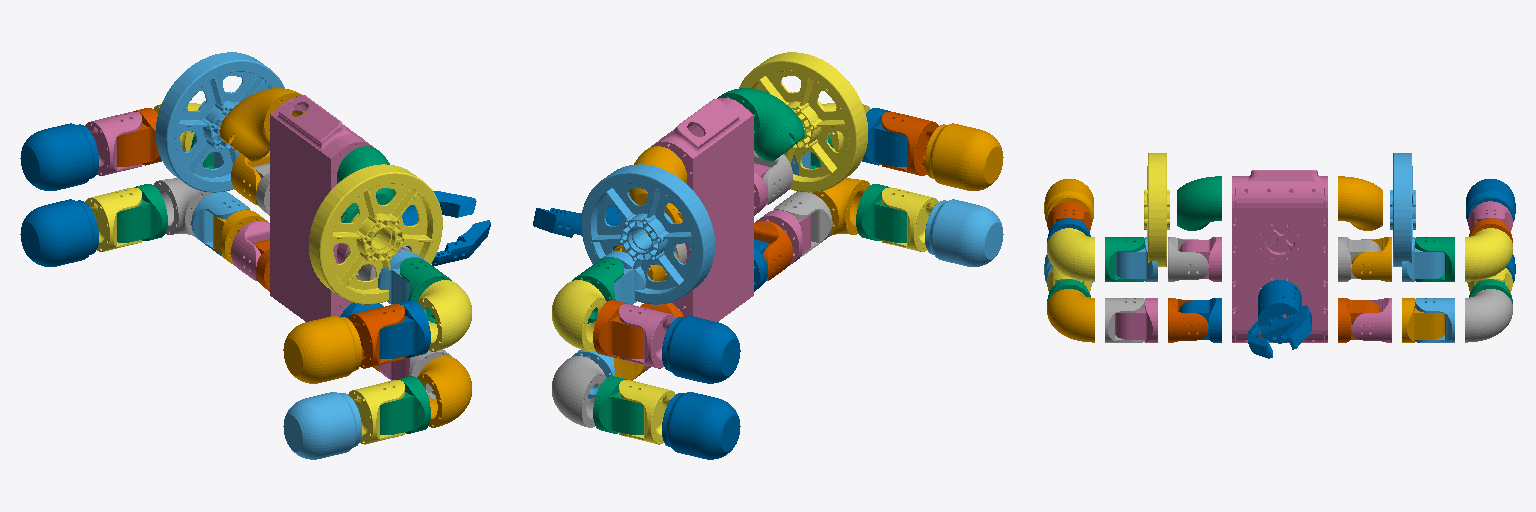
--- Render facts (derived) ---
Views: 3 orthographic renders of the robot side by side, from view 1: azimuth 30°, elevation 25°; view 2: azimuth 150°, elevation 25°; view 3: azimuth 270°, elevation 25°.
Model modular_robot_compiled with 39 links and 38 joints (13 revolute, 2 continuous, 23 fixed), rooted at eigenbody_M18_S00, posed all joints at 0.
Visible links, largest first — view 1: eigenbody_M18_S00, wheel_output_M1_SF3, wheel_output_M0_SF1, foot_input_M14_SC5, foot_input_M10_S29, foot_input_M2_S47, foot_input_M22_SB6, wheel_input_M0_SF1, static_elbow_M9_SBB, static_elbow_M16_SB4, gripper_M12_S14, bendy_input_M6_S53 (+18 smaller); view 2: eigenbody_M18_S00, wheel_output_M0_SF1, wheel_output_M1_SF3, foot_input_M22_SB6, foot_input_M2_S47, foot_input_M10_S29, foot_input_M14_SC5, wheel_input_M1_SF3, static_elbow_M4_S42, static_elbow_M21_SC7, bendy_input_M11_S36, bendy_input_M23_S01 (+18 smaller); view 3: eigenbody_M18_S00, gripper_M12_S14, wheel_output_M0_SF1, wheel_output_M1_SF3, wheel_input_M0_SF1, wheel_input_M1_SF3, static_elbow_M16_SB4, static_elbow_M21_SC7, static_elbow_M4_S42, static_elbow_M9_SBB, bendy_input_M5_S1D, bendy_input_M8_S0C (+18 smaller).
Boxes of the visible links, x1,y1,x2,y2 form: eigenbody_M18_S00: (270, 95, 372, 321); wheel_output_M1_SF3: (309, 164, 442, 304); wheel_output_M0_SF1: (156, 52, 284, 192); foot_input_M14_SC5: (283, 316, 361, 383); foot_input_M10_S29: (283, 392, 361, 459); foot_input_M2_S47: (20, 199, 98, 266); foot_input_M22_SB6: (20, 123, 98, 190); wheel_input_M0_SF1: (219, 88, 305, 161); static_elbow_M9_SBB: (417, 356, 471, 427); static_elbow_M16_SB4: (417, 280, 471, 351); gripper_M12_S14: (402, 191, 490, 266); bendy_input_M6_S53: (117, 184, 167, 242); eigenbody_M18_S00: (651, 98, 753, 321); wheel_output_M0_SF1: (581, 164, 714, 304); wheel_output_M1_SF3: (739, 52, 867, 192); foot_input_M22_SB6: (662, 316, 740, 383); foot_input_M2_S47: (662, 392, 740, 459); foot_input_M10_S29: (925, 199, 1003, 266); foot_input_M14_SC5: (925, 123, 1003, 190); wheel_input_M1_SF3: (717, 88, 804, 161); static_elbow_M4_S42: (552, 356, 606, 427); static_elbow_M21_SC7: (552, 280, 606, 351); bendy_input_M11_S36: (856, 184, 906, 242); bendy_input_M23_S01: (593, 300, 643, 358); eigenbody_M18_S00: (1232, 170, 1327, 342); gripper_M12_S14: (1248, 280, 1311, 358); wheel_output_M0_SF1: (1390, 153, 1415, 266); wheel_output_M1_SF3: (1144, 153, 1169, 266); wheel_input_M0_SF1: (1338, 176, 1382, 230); wheel_input_M1_SF3: (1177, 176, 1221, 230); static_elbow_M16_SB4: (1047, 228, 1094, 281); static_elbow_M21_SC7: (1465, 228, 1512, 281); static_elbow_M4_S42: (1465, 289, 1512, 342); static_elbow_M9_SBB: (1047, 289, 1094, 342); bendy_input_M5_S1D: (1402, 298, 1444, 342); bendy_input_M8_S0C: (1115, 298, 1157, 342).
Bounding box of the posed robot: 0.3967 × 0.632 × 0.2584 m (x, y, z).
Meshes: 8 distinct files referenced, 38 mesh visuals loaded (8 binary STL).

robot.urdf — modular_robot_compiled:
<?xml version="1.0" ?>
<!-- =================================================================================== -->
<!-- |    This document was autogenerated by xacro from [local-path]/catkin_ws/src/eigenbot/urdf/autoXACRO.xacro | -->
<!-- |    EDITING THIS FILE BY HAND IS NOT RECOMMENDED                                 | -->
<!-- =================================================================================== -->
<robot name="modular_robot_compiled" xmlns:xacro="http://www.ros.org/wiki/xacro">
  <link name="wheel_input_M0_SF1">
    <inertial>
      <origin rpy="0 0 0" xyz="-0.03217 -0.01684  0.00008"/>
      <mass value="0.16899"/>
      <inertia ixx="0.00011469" ixy="0.00005233" ixz="0.0000004" iyy="0.00011843" iyz="0.00000024" izz="0.00017019"/>
    </inertial>
    <visual>
      <geometry>
        <mesh filename="package://eigenbot/meshes/Wheel In.STL" scale=" 1 1 1 "/>
      </geometry>
    </visual>
    <collision>
      <geometry>
        <mesh filename="package://eigenbot/meshes/Wheel In.STL" scale=" 1 1 1 "/>
      </geometry>
    </collision>
    <material name="black">
      <color rgba="0.1 0.1 0.1 1"/>
    </material>
  </link>
  <link name="wheel_output_M0_SF1">
    <inertial>
      <origin rpy="0 0 0" xyz="-0.03 0 0"/>
      <mass value="0.30808"/>
      <inertia ixx=".00103" ixy="0" ixz="0" iyy="0.00054" iyz="0" izz="0.00054"/>
    </inertial>
    <visual>
      <geometry>
        <mesh filename="package://eigenbot/meshes/Wheel Out.STL" scale=" 1 1 1 "/>
      </geometry>
      <origin rpy="0 0 0" xyz="0 0 0"/>
    </visual>
    <collision>
      <geometry>
        <mesh filename="package://eigenbot/meshes/Wheel Out.STL" scale=" 1 1 1 "/>
      </geometry>
    </collision>
    <material name="black">
      <color rgba="0.1 0.1 0.1 1"/>
    </material>
  </link>
  <joint name="wheel_joint_M0_SF1" type="continuous">
    <parent link="wheel_input_M0_SF1"/>
    <child link="wheel_output_M0_SF1"/>
    <origin rpy="0 0 0" xyz="-0.06858 -0.044775 0"/>
    <axis xyz="1 0 0"/>
    <limit effort="100.0" velocity="3.2"/>
  </joint>
  <link name="wheel_input_M1_SF3">
    <inertial>
      <origin rpy="0 0 0" xyz="-0.03217 -0.01684  0.00008"/>
      <mass value="0.16899"/>
      <inertia ixx="0.00011469" ixy="0.00005233" ixz="0.0000004" iyy="0.00011843" iyz="0.00000024" izz="0.00017019"/>
    </inertial>
    <visual>
      <geometry>
        <mesh filename="package://eigenbot/meshes/Wheel In.STL" scale=" 1 1 1 "/>
      </geometry>
    </visual>
    <collision>
      <geometry>
        <mesh filename="package://eigenbot/meshes/Wheel In.STL" scale=" 1 1 1 "/>
      </geometry>
    </collision>
    <material name="black">
      <color rgba="0.1 0.1 0.1 1"/>
    </material>
  </link>
  <link name="wheel_output_M1_SF3">
    <inertial>
      <origin rpy="0 0 0" xyz="-0.03 0 0"/>
      <mass value="0.30808"/>
      <inertia ixx=".00103" ixy="0" ixz="0" iyy="0.00054" iyz="0" izz="0.00054"/>
    </inertial>
    <visual>
      <geometry>
        <mesh filename="package://eigenbot/meshes/Wheel Out.STL" scale=" 1 1 1 "/>
      </geometry>
      <origin rpy="0 0 0" xyz="0 0 0"/>
    </visual>
    <collision>
      <geometry>
        <mesh filename="package://eigenbot/meshes/Wheel Out.STL" scale=" 1 1 1 "/>
      </geometry>
    </collision>
    <material name="black">
      <color rgba="0.1 0.1 0.1 1"/>
    </material>
  </link>
  <joint name="wheel_joint_M1_SF3" type="continuous">
    <parent link="wheel_input_M1_SF3"/>
    <child link="wheel_output_M1_SF3"/>
    <origin rpy="0 0 0" xyz="-0.06858 -0.044775 0"/>
    <axis xyz="1 0 0"/>
    <limit effort="100.0" velocity="3.2"/>
  </joint>
  <link name="foot_input_M2_S47">
    <inertial>
      <origin rpy="0 0 0" xyz="-0.03918 0 0"/>
      <mass value="0.04967"/>
      <inertia ixx="0.0000361" ixy="0" ixz="0" iyy="0.0000434" iyz="0" izz="0.0000434"/>
    </inertial>
    <visual>
      <geometry>
        <mesh filename="package://eigenbot/meshes/Foot.STL" scale=" 1 1 1 "/>
      </geometry>
    </visual>
    <collision>
      <geometry>
        <mesh filename="package://eigenbot/meshes/Foot.STL" scale=" 1 1 1 "/>
      </geometry>
    </collision>
    <material name="black">
      <color rgba="0.1 0.1 0.1 1"/>
    </material>
  </link>
  <link name="bendy_input_M3_S02">
    <inertial>
      <origin rpy="0 0 0" xyz="-0.023 0 0"/>
      <mass value="0.13536"/>
      <inertia ixx="0.000047004" ixy="-0.000000049" ixz="0.000000017" iyy="0.000068413" iyz="0.000000009" izz="0.000070686"/>
    </inertial>
    <visual>
      <geometry>
        <mesh filename="package://eigenbot/meshes/Bendy In.STL" scale="1 1 1"/>
      </geometry>
    </visual>
    <collision>
      <geometry>
        <mesh filename="package://eigenbot/meshes/Bendy In.STL" scale="1 1 1"/>
      </geometry>
    </collision>
    <material name="black">
      <color rgba="0.1 0.1 0.1 1"/>
    </material>
  </link>
  <link name="bendy_output_M3_S02">
    <inertial>
      <origin rpy="0 0 0" xyz="-0.029 0 0"/>
      <mass value=".03522"/>
      <inertia ixx="0.000021977" ixy="0.000000082" ixz="-0.000000063" iyy="0.000017473" iyz="0.000000067" izz="0.000021078"/>
    </inertial>
    <visual>
      <geometry>
        <mesh filename="package://eigenbot/meshes/Bendy Out.STL" scale="1 1 1"/>
      </geometry>
      <origin rpy="0 0 0" xyz="0 0 0 "/>
    </visual>
    <collision>
      <geometry>
        <mesh filename="package://eigenbot/meshes/Bendy Out.STL" scale="1 1 1"/>
      </geometry>
      <origin rpy="0 0 0" xyz="0 0 0"/>
    </collision>
    <material name="black">
      <color rgba="0.1 0.1 0.1 1"/>
    </material>
  </link>
  <joint name="bendy_joint_M3_S02" type="revolute">
    <parent link="bendy_input_M3_S02"/>
    <child link="bendy_output_M3_S02"/>
    <origin rpy="0 0 0" xyz="-0.049 0 0"/>
    <axis xyz="0 1 0"/>
    <limit effort="100.0" lower="-1.57079632679" upper="1.57079632679" velocity="5"/>
  </joint>
  <link name="static_elbow_M4_S42">
    <inertial>
      <origin rpy="0 0 0" xyz="-0.03148 0.00004 -0.01437"/>
      <mass value="0.06766"/>
      <inertia ixx="0.000052397" ixy="-0.0000001126" ixz="0.000015681" iyy="0.000065586" iyz="-0.000000082" izz="0.000053626"/>
    </inertial>
    <visual>
      <geometry>
        <mesh filename="package://eigenbot/meshes/Elbow.STL" scale="1 1 1"/>
      </geometry>
      <origin rpy="-1.57079632679 0 0" xyz="0 0 0"/>
    </visual>
    <collision>
      <geometry>
        <mesh filename="package://eigenbot/meshes/Elbow.STL" scale="1 1 1"/>
      </geometry>
      <origin rpy="-1.57079632679 0 0" xyz="0 0 0"/>
    </collision>
    <material name="black">
      <color rgba="0.1 0.1 0.1 1"/>
    </material>
  </link>
  <link name="bendy_input_M5_S1D">
    <inertial>
      <origin rpy="0 0 0" xyz="-0.023 0 0"/>
      <mass value="0.13536"/>
      <inertia ixx="0.000047004" ixy="-0.000000049" ixz="0.000000017" iyy="0.000068413" iyz="0.000000009" izz="0.000070686"/>
    </inertial>
    <visual>
      <geometry>
        <mesh filename="package://eigenbot/meshes/Bendy In.STL" scale="1 1 1"/>
      </geometry>
    </visual>
    <collision>
      <geometry>
        <mesh filename="package://eigenbot/meshes/Bendy In.STL" scale="1 1 1"/>
      </geometry>
    </collision>
    <material name="black">
      <color rgba="0.1 0.1 0.1 1"/>
    </material>
  </link>
  <link name="bendy_output_M5_S1D">
    <inertial>
      <origin rpy="0 0 0" xyz="-0.029 0 0"/>
      <mass value=".03522"/>
      <inertia ixx="0.000021977" ixy="0.000000082" ixz="-0.000000063" iyy="0.000017473" iyz="0.000000067" izz="0.000021078"/>
    </inertial>
    <visual>
      <geometry>
        <mesh filename="package://eigenbot/meshes/Bendy Out.STL" scale="1 1 1"/>
      </geometry>
      <origin rpy="0 0 0" xyz="0 0 0 "/>
    </visual>
    <collision>
      <geometry>
        <mesh filename="package://eigenbot/meshes/Bendy Out.STL" scale="1 1 1"/>
      </geometry>
      <origin rpy="0 0 0" xyz="0 0 0"/>
    </collision>
    <material name="black">
      <color rgba="0.1 0.1 0.1 1"/>
    </material>
  </link>
  <joint name="bendy_joint_M5_S1D" type="revolute">
    <parent link="bendy_input_M5_S1D"/>
    <child link="bendy_output_M5_S1D"/>
    <origin rpy="0 0 0" xyz="-0.049 0 0"/>
    <axis xyz="0 1 0"/>
    <limit effort="100.0" lower="-1.57079632679" upper="1.57079632679" velocity="5"/>
  </joint>
  <link name="bendy_input_M6_S53">
    <inertial>
      <origin rpy="0 0 0" xyz="-0.023 0 0"/>
      <mass value="0.13536"/>
      <inertia ixx="0.000047004" ixy="-0.000000049" ixz="0.000000017" iyy="0.000068413" iyz="0.000000009" izz="0.000070686"/>
    </inertial>
    <visual>
      <geometry>
        <mesh filename="package://eigenbot/meshes/Bendy In.STL" scale="1 1 1"/>
      </geometry>
    </visual>
    <collision>
      <geometry>
        <mesh filename="package://eigenbot/meshes/Bendy In.STL" scale="1 1 1"/>
      </geometry>
    </collision>
    <material name="black">
      <color rgba="0.1 0.1 0.1 1"/>
    </material>
  </link>
  <link name="bendy_output_M6_S53">
    <inertial>
      <origin rpy="0 0 0" xyz="-0.029 0 0"/>
      <mass value=".03522"/>
      <inertia ixx="0.000021977" ixy="0.000000082" ixz="-0.000000063" iyy="0.000017473" iyz="0.000000067" izz="0.000021078"/>
    </inertial>
    <visual>
      <geometry>
        <mesh filename="package://eigenbot/meshes/Bendy Out.STL" scale="1 1 1"/>
      </geometry>
      <origin rpy="0 0 0" xyz="0 0 0 "/>
    </visual>
    <collision>
      <geometry>
        <mesh filename="package://eigenbot/meshes/Bendy Out.STL" scale="1 1 1"/>
      </geometry>
      <origin rpy="0 0 0" xyz="0 0 0"/>
    </collision>
    <material name="black">
      <color rgba="0.1 0.1 0.1 1"/>
    </material>
  </link>
  <joint name="bendy_joint_M6_S53" type="revolute">
    <parent link="bendy_input_M6_S53"/>
    <child link="bendy_output_M6_S53"/>
    <origin rpy="0 0 0" xyz="-0.049 0 0"/>
    <axis xyz="0 1 0"/>
    <limit effort="100.0" lower="-1.57079632679" upper="1.57079632679" velocity="5"/>
  </joint>
  <link name="bendy_input_M7_SC0">
    <inertial>
      <origin rpy="0 0 0" xyz="-0.023 0 0"/>
      <mass value="0.13536"/>
      <inertia ixx="0.000047004" ixy="-0.000000049" ixz="0.000000017" iyy="0.000068413" iyz="0.000000009" izz="0.000070686"/>
    </inertial>
    <visual>
      <geometry>
        <mesh filename="package://eigenbot/meshes/Bendy In.STL" scale="1 1 1"/>
      </geometry>
    </visual>
    <collision>
      <geometry>
        <mesh filename="package://eigenbot/meshes/Bendy In.STL" scale="1 1 1"/>
      </geometry>
    </collision>
    <material name="black">
      <color rgba="0.1 0.1 0.1 1"/>
    </material>
  </link>
  <link name="bendy_output_M7_SC0">
    <inertial>
      <origin rpy="0 0 0" xyz="-0.029 0 0"/>
      <mass value=".03522"/>
      <inertia ixx="0.000021977" ixy="0.000000082" ixz="-0.000000063" iyy="0.000017473" iyz="0.000000067" izz="0.000021078"/>
    </inertial>
    <visual>
      <geometry>
        <mesh filename="package://eigenbot/meshes/Bendy Out.STL" scale="1 1 1"/>
      </geometry>
      <origin rpy="0 0 0" xyz="0 0 0 "/>
    </visual>
    <collision>
      <geometry>
        <mesh filename="package://eigenbot/meshes/Bendy Out.STL" scale="1 1 1"/>
      </geometry>
      <origin rpy="0 0 0" xyz="0 0 0"/>
    </collision>
    <material name="black">
      <color rgba="0.1 0.1 0.1 1"/>
    </material>
  </link>
  <joint name="bendy_joint_M7_SC0" type="revolute">
    <parent link="bendy_input_M7_SC0"/>
    <child link="bendy_output_M7_SC0"/>
    <origin rpy="0 0 0" xyz="-0.049 0 0"/>
    <axis xyz="0 1 0"/>
    <limit effort="100.0" lower="-1.57079632679" upper="1.57079632679" velocity="5"/>
  </joint>
  <link name="bendy_input_M8_S0C">
    <inertial>
      <origin rpy="0 0 0" xyz="-0.023 0 0"/>
      <mass value="0.13536"/>
      <inertia ixx="0.000047004" ixy="-0.000000049" ixz="0.000000017" iyy="0.000068413" iyz="0.000000009" izz="0.000070686"/>
    </inertial>
    <visual>
      <geometry>
        <mesh filename="package://eigenbot/meshes/Bendy In.STL" scale="1 1 1"/>
      </geometry>
    </visual>
    <collision>
      <geometry>
        <mesh filename="package://eigenbot/meshes/Bendy In.STL" scale="1 1 1"/>
      </geometry>
    </collision>
    <material name="black">
      <color rgba="0.1 0.1 0.1 1"/>
    </material>
  </link>
  <link name="bendy_output_M8_S0C">
    <inertial>
      <origin rpy="0 0 0" xyz="-0.029 0 0"/>
      <mass value=".03522"/>
      <inertia ixx="0.000021977" ixy="0.000000082" ixz="-0.000000063" iyy="0.000017473" iyz="0.000000067" izz="0.000021078"/>
    </inertial>
    <visual>
      <geometry>
        <mesh filename="package://eigenbot/meshes/Bendy Out.STL" scale="1 1 1"/>
      </geometry>
      <origin rpy="0 0 0" xyz="0 0 0 "/>
    </visual>
    <collision>
      <geometry>
        <mesh filename="package://eigenbot/meshes/Bendy Out.STL" scale="1 1 1"/>
      </geometry>
      <origin rpy="0 0 0" xyz="0 0 0"/>
    </collision>
    <material name="black">
      <color rgba="0.1 0.1 0.1 1"/>
    </material>
  </link>
  <joint name="bendy_joint_M8_S0C" type="revolute">
    <parent link="bendy_input_M8_S0C"/>
    <child link="bendy_output_M8_S0C"/>
    <origin rpy="0 0 0" xyz="-0.049 0 0"/>
    <axis xyz="0 1 0"/>
    <limit effort="100.0" lower="-1.57079632679" upper="1.57079632679" velocity="5"/>
  </joint>
  <link name="static_elbow_M9_SBB">
    <inertial>
      <origin rpy="0 0 0" xyz="-0.03148 0.00004 -0.01437"/>
      <mass value="0.06766"/>
      <inertia ixx="0.000052397" ixy="-0.0000001126" ixz="0.000015681" iyy="0.000065586" iyz="-0.000000082" izz="0.000053626"/>
    </inertial>
    <visual>
      <geometry>
        <mesh filename="package://eigenbot/meshes/Elbow.STL" scale="1 1 1"/>
      </geometry>
      <origin rpy="-1.57079632679 0 0" xyz="0 0 0"/>
    </visual>
    <collision>
      <geometry>
        <mesh filename="package://eigenbot/meshes/Elbow.STL" scale="1 1 1"/>
      </geometry>
      <origin rpy="-1.57079632679 0 0" xyz="0 0 0"/>
    </collision>
    <material name="black">
      <color rgba="0.1 0.1 0.1 1"/>
    </material>
  </link>
  <link name="foot_input_M10_S29">
    <inertial>
      <origin rpy="0 0 0" xyz="-0.03918 0 0"/>
      <mass value="0.04967"/>
      <inertia ixx="0.0000361" ixy="0" ixz="0" iyy="0.0000434" iyz="0" izz="0.0000434"/>
    </inertial>
    <visual>
      <geometry>
        <mesh filename="package://eigenbot/meshes/Foot.STL" scale=" 1 1 1 "/>
      </geometry>
    </visual>
    <collision>
      <geometry>
        <mesh filename="package://eigenbot/meshes/Foot.STL" scale=" 1 1 1 "/>
      </geometry>
    </collision>
    <material name="black">
      <color rgba="0.1 0.1 0.1 1"/>
    </material>
  </link>
  <link name="bendy_input_M11_S36">
    <inertial>
      <origin rpy="0 0 0" xyz="-0.023 0 0"/>
      <mass value="0.13536"/>
      <inertia ixx="0.000047004" ixy="-0.000000049" ixz="0.000000017" iyy="0.000068413" iyz="0.000000009" izz="0.000070686"/>
    </inertial>
    <visual>
      <geometry>
        <mesh filename="package://eigenbot/meshes/Bendy In.STL" scale="1 1 1"/>
      </geometry>
    </visual>
    <collision>
      <geometry>
        <mesh filename="package://eigenbot/meshes/Bendy In.STL" scale="1 1 1"/>
      </geometry>
    </collision>
    <material name="black">
      <color rgba="0.1 0.1 0.1 1"/>
    </material>
  </link>
  <link name="bendy_output_M11_S36">
    <inertial>
      <origin rpy="0 0 0" xyz="-0.029 0 0"/>
      <mass value=".03522"/>
      <inertia ixx="0.000021977" ixy="0.000000082" ixz="-0.000000063" iyy="0.000017473" iyz="0.000000067" izz="0.000021078"/>
    </inertial>
    <visual>
      <geometry>
        <mesh filename="package://eigenbot/meshes/Bendy Out.STL" scale="1 1 1"/>
      </geometry>
      <origin rpy="0 0 0" xyz="0 0 0 "/>
    </visual>
    <collision>
      <geometry>
        <mesh filename="package://eigenbot/meshes/Bendy Out.STL" scale="1 1 1"/>
      </geometry>
      <origin rpy="0 0 0" xyz="0 0 0"/>
    </collision>
    <material name="black">
      <color rgba="0.1 0.1 0.1 1"/>
    </material>
  </link>
  <joint name="bendy_joint_M11_S36" type="revolute">
    <parent link="bendy_input_M11_S36"/>
    <child link="bendy_output_M11_S36"/>
    <origin rpy="0 0 0" xyz="-0.049 0 0"/>
    <axis xyz="0 1 0"/>
    <limit effort="100.0" lower="-1.57079632679" upper="1.57079632679" velocity="5"/>
  </joint>
  <link name="gripper_M12_S14">
    <inertial>
      <!-- TODO: check this is the right offset from CAD -->
      <origin rpy="0 0 0" xyz="-0.0381  -0.0015  -0.0037"/>
      <mass value=".388326"/>
      <inertia ixx="0.0001432" ixy="-0.0000013" ixz="-0.000003" iyy="0.0003879" iyz="-0.0000059" izz="0.0004005"/>
    </inertial>
    <visual>
      <origin rpy="0 0 0" xyz="0 0 0"/>
      <geometry>
        <mesh filename="package://eigenbot/meshes/Gripper.STL" scale="1 1 1"/>
      </geometry>
    </visual>
    <collision>
      <origin rpy="0 0 0" xyz="0 0 0"/>
      <geometry>
        <mesh filename="package://eigenbot/meshes/Gripper.STL" scale="1 1 1"/>
      </geometry>
    </collision>
    <material name="black">
      <color rgba="0.1 0.1 0.1 1"/>
    </material>
  </link>
  <link name="gripper_virtual_M12_S14">
    <inertial>
      <origin rpy="0 0 0" xyz="0 0 0"/>
      <mass value=".01"/>
      <inertia ixx=".000001" ixy="0" ixz="0" iyy=".000001" iyz="0" izz=".000001"/>
    </inertial>
  </link>
  <joint name="gripper_joint_M12_S14" type="revolute">
    <parent link="gripper_M12_S14"/>
    <child link="gripper_virtual_M12_S14"/>
    <origin rpy="0 0 0" xyz="0 0 0"/>
    <axis xyz="0 1 0"/>
    <limit effort="1000.0" lower="0" upper="2.6" velocity="2"/>
  </joint>
  <link name="bendy_input_M13_SB9">
    <inertial>
      <origin rpy="0 0 0" xyz="-0.023 0 0"/>
      <mass value="0.13536"/>
      <inertia ixx="0.000047004" ixy="-0.000000049" ixz="0.000000017" iyy="0.000068413" iyz="0.000000009" izz="0.000070686"/>
    </inertial>
    <visual>
      <geometry>
        <mesh filename="package://eigenbot/meshes/Bendy In.STL" scale="1 1 1"/>
      </geometry>
    </visual>
    <collision>
      <geometry>
        <mesh filename="package://eigenbot/meshes/Bendy In.STL" scale="1 1 1"/>
      </geometry>
    </collision>
    <material name="black">
      <color rgba="0.1 0.1 0.1 1"/>
    </material>
  </link>
  <link name="bendy_output_M13_SB9">
    <inertial>
      <origin rpy="0 0 0" xyz="-0.029 0 0"/>
      <mass value=".03522"/>
      <inertia ixx="0.000021977" ixy="0.000000082" ixz="-0.000000063" iyy="0.000017473" iyz="0.000000067" izz="0.000021078"/>
    </inertial>
    <visual>
      <geometry>
        <mesh filename="package://eigenbot/meshes/Bendy Out.STL" scale="1 1 1"/>
      </geometry>
      <origin rpy="0 0 0" xyz="0 0 0 "/>
    </visual>
    <collision>
      <geometry>
        <mesh filename="package://eigenbot/meshes/Bendy Out.STL" scale="1 1 1"/>
      </geometry>
      <origin rpy="0 0 0" xyz="0 0 0"/>
    </collision>
    <material name="black">
      <color rgba="0.1 0.1 0.1 1"/>
    </material>
  </link>
  <joint name="bendy_joint_M13_SB9" type="revolute">
    <parent link="bendy_input_M13_SB9"/>
    <child link="bendy_output_M13_SB9"/>
    <origin rpy="0 0 0" xyz="-0.049 0 0"/>
    <axis xyz="0 1 0"/>
    <limit effort="100.0" lower="-1.57079632679" upper="1.57079632679" velocity="5"/>
  </joint>
  <link name="foot_input_M14_SC5">
    <inertial>
      <origin rpy="0 0 0" xyz="-0.03918 0 0"/>
      <mass value="0.04967"/>
      <inertia ixx="0.0000361" ixy="0" ixz="0" iyy="0.0000434" iyz="0" izz="0.0000434"/>
    </inertial>
    <visual>
      <geometry>
        <mesh filename="package://eigenbot/meshes/Foot.STL" scale=" 1 1 1 "/>
      </geometry>
    </visual>
    <collision>
      <geometry>
        <mesh filename="package://eigenbot/meshes/Foot.STL" scale=" 1 1 1 "/>
      </geometry>
    </collision>
    <material name="black">
      <color rgba="0.1 0.1 0.1 1"/>
    </material>
  </link>
  <link name="bendy_input_M15_S03">
    <inertial>
      <origin rpy="0 0 0" xyz="-0.023 0 0"/>
      <mass value="0.13536"/>
      <inertia ixx="0.000047004" ixy="-0.000000049" ixz="0.000000017" iyy="0.000068413" iyz="0.000000009" izz="0.000070686"/>
    </inertial>
    <visual>
      <geometry>
        <mesh filename="package://eigenbot/meshes/Bendy In.STL" scale="1 1 1"/>
      </geometry>
    </visual>
    <collision>
      <geometry>
        <mesh filename="package://eigenbot/meshes/Bendy In.STL" scale="1 1 1"/>
      </geometry>
    </collision>
    <material name="black">
      <color rgba="0.1 0.1 0.1 1"/>
    </material>
  </link>
  <link name="bendy_output_M15_S03">
    <inertial>
      <origin rpy="0 0 0" xyz="-0.029 0 0"/>
      <mass value=".03522"/>
      <inertia ixx="0.000021977" ixy="0.000000082" ixz="-0.000000063" iyy="0.000017473" iyz="0.000000067" izz="0.000021078"/>
    </inertial>
    <visual>
      <geometry>
        <mesh filename="package://eigenbot/meshes/Bendy Out.STL" scale="1 1 1"/>
      </geometry>
      <origin rpy="0 0 0" xyz="0 0 0 "/>
    </visual>
    <collision>
      <geometry>
        <mesh filename="package://eigenbot/meshes/Bendy Out.STL" scale="1 1 1"/>
      </geometry>
      <origin rpy="0 0 0" xyz="0 0 0"/>
    </collision>
    <material name="black">
      <color rgba="0.1 0.1 0.1 1"/>
    </material>
  </link>
  <joint name="bendy_joint_M15_S03" type="revolute">
    <parent link="bendy_input_M15_S03"/>
    <child link="bendy_output_M15_S03"/>
    <origin rpy="0 0 0" xyz="-0.049 0 0"/>
    <axis xyz="0 1 0"/>
    <limit effort="100.0" lower="-1.57079632679" upper="1.57079632679" velocity="5"/>
  </joint>
  <link name="static_elbow_M16_SB4">
    <inertial>
      <origin rpy="0 0 0" xyz="-0.03148 0.00004 -0.01437"/>
      <mass value="0.06766"/>
      <inertia ixx="0.000052397" ixy="-0.0000001126" ixz="0.000015681" iyy="0.000065586" iyz="-0.000000082" izz="0.000053626"/>
    </inertial>
    <visual>
      <geometry>
        <mesh filename="package://eigenbot/meshes/Elbow.STL" scale="1 1 1"/>
      </geometry>
      <origin rpy="-1.57079632679 0 0" xyz="0 0 0"/>
    </visual>
    <collision>
      <geometry>
        <mesh filename="package://eigenbot/meshes/Elbow.STL" scale="1 1 1"/>
      </geometry>
      <origin rpy="-1.57079632679 0 0" xyz="0 0 0"/>
    </collision>
    <material name="black">
      <color rgba="0.1 0.1 0.1 1"/>
    </material>
  </link>
  <link name="bendy_input_M17_S0A">
    <inertial>
      <origin rpy="0 0 0" xyz="-0.023 0 0"/>
      <mass value="0.13536"/>
      <inertia ixx="0.000047004" ixy="-0.000000049" ixz="0.000000017" iyy="0.000068413" iyz="0.000000009" izz="0.000070686"/>
    </inertial>
    <visual>
      <geometry>
        <mesh filename="package://eigenbot/meshes/Bendy In.STL" scale="1 1 1"/>
      </geometry>
    </visual>
    <collision>
      <geometry>
        <mesh filename="package://eigenbot/meshes/Bendy In.STL" scale="1 1 1"/>
      </geometry>
    </collision>
    <material name="black">
      <color rgba="0.1 0.1 0.1 1"/>
    </material>
  </link>
  <link name="bendy_output_M17_S0A">
    <inertial>
      <origin rpy="0 0 0" xyz="-0.029 0 0"/>
      <mass value=".03522"/>
      <inertia ixx="0.000021977" ixy="0.000000082" ixz="-0.000000063" iyy="0.000017473" iyz="0.000000067" izz="0.000021078"/>
    </inertial>
    <visual>
      <geometry>
        <mesh filename="package://eigenbot/meshes/Bendy Out.STL" scale="1 1 1"/>
      </geometry>
      <origin rpy="0 0 0" xyz="0 0 0 "/>
    </visual>
    <collision>
      <geometry>
        <mesh filename="package://eigenbot/meshes/Bendy Out.STL" scale="1 1 1"/>
      </geometry>
      <origin rpy="0 0 0" xyz="0 0 0"/>
    </collision>
    <material name="black">
      <color rgba="0.1 0.1 0.1 1"/>
    </material>
  </link>
  <joint name="bendy_joint_M17_S0A" type="revolute">
    <parent link="bendy_input_M17_S0A"/>
    <child link="bendy_output_M17_S0A"/>
    <origin rpy="0 0 0" xyz="-0.049 0 0"/>
    <axis xyz="0 1 0"/>
    <limit effort="100.0" lower="-1.57079632679" upper="1.57079632679" velocity="5"/>
  </joint>
  <link name="eigenbody_M18_S00">
    <inertial>
      <mass value="0.84845"/>
      <origin rpy="0 0 0" xyz="-0.045 0 -0.063"/>
      <inertia ixx=".005031284" ixy="0.000000338" ixz="0.000086805" iyy="0.003968526" iyz="0.000039596" izz="0.001646162"/>
    </inertial>
    <visual>
      <geometry>
        <mesh filename="package://eigenbot/meshes/Eigenbody.STL" scale="1 1 1"/>
      </geometry>
    </visual>
    <collision>
      <geometry>
        <mesh filename="package://eigenbot/meshes/Eigenbody.STL" scale="1 1 1"/>
      </geometry>
    </collision>
    <material name="black">
      <color rgba="0.1 0.1 0.1 1"/>
    </material>
  </link>
  <link name="bendy_input_M19_S5A">
    <inertial>
      <origin rpy="0 0 0" xyz="-0.023 0 0"/>
      <mass value="0.13536"/>
      <inertia ixx="0.000047004" ixy="-0.000000049" ixz="0.000000017" iyy="0.000068413" iyz="0.000000009" izz="0.000070686"/>
    </inertial>
    <visual>
      <geometry>
        <mesh filename="package://eigenbot/meshes/Bendy In.STL" scale="1 1 1"/>
      </geometry>
    </visual>
    <collision>
      <geometry>
        <mesh filename="package://eigenbot/meshes/Bendy In.STL" scale="1 1 1"/>
      </geometry>
    </collision>
    <material name="black">
      <color rgba="0.1 0.1 0.1 1"/>
    </material>
  </link>
  <link name="bendy_output_M19_S5A">
    <inertial>
      <origin rpy="0 0 0" xyz="-0.029 0 0"/>
      <mass value=".03522"/>
      <inertia ixx="0.000021977" ixy="0.000000082" ixz="-0.000000063" iyy="0.000017473" iyz="0.000000067" izz="0.000021078"/>
    </inertial>
    <visual>
      <geometry>
        <mesh filename="package://eigenbot/meshes/Bendy Out.STL" scale="1 1 1"/>
      </geometry>
      <origin rpy="0 0 0" xyz="0 0 0 "/>
    </visual>
    <collision>
      <geometry>
        <mesh filename="package://eigenbot/meshes/Bendy Out.STL" scale="1 1 1"/>
      </geometry>
      <origin rpy="0 0 0" xyz="0 0 0"/>
    </collision>
    <material name="black">
      <color rgba="0.1 0.1 0.1 1"/>
    </material>
  </link>
  <joint name="bendy_joint_M19_S5A" type="revolute">
    <parent link="bendy_input_M19_S5A"/>
    <child link="bendy_output_M19_S5A"/>
    <origin rpy="0 0 0" xyz="-0.049 0 0"/>
    <axis xyz="0 1 0"/>
    <limit effort="100.0" lower="-1.57079632679" upper="1.57079632679" velocity="5"/>
  </joint>
  <link name="bendy_input_M20_SE9">
    <inertial>
      <origin rpy="0 0 0" xyz="-0.023 0 0"/>
      <mass value="0.13536"/>
      <inertia ixx="0.000047004" ixy="-0.000000049" ixz="0.000000017" iyy="0.000068413" iyz="0.000000009" izz="0.000070686"/>
    </inertial>
    <visual>
      <geometry>
        <mesh filename="package://eigenbot/meshes/Bendy In.STL" scale="1 1 1"/>
      </geometry>
    </visual>
    <collision>
      <geometry>
        <mesh filename="package://eigenbot/meshes/Bendy In.STL" scale="1 1 1"/>
      </geometry>
    </collision>
    <material name="black">
      <color rgba="0.1 0.1 0.1 1"/>
    </material>
  </link>
  <link name="bendy_output_M20_SE9">
    <inertial>
      <origin rpy="0 0 0" xyz="-0.029 0 0"/>
      <mass value=".03522"/>
      <inertia ixx="0.000021977" ixy="0.000000082" ixz="-0.000000063" iyy="0.000017473" iyz="0.000000067" izz="0.000021078"/>
    </inertial>
    <visual>
      <geometry>
        <mesh filename="package://eigenbot/meshes/Bendy Out.STL" scale="1 1 1"/>
      </geometry>
      <origin rpy="0 0 0" xyz="0 0 0 "/>
    </visual>
    <collision>
      <geometry>
        <mesh filename="package://eigenbot/meshes/Bendy Out.STL" scale="1 1 1"/>
      </geometry>
      <origin rpy="0 0 0" xyz="0 0 0"/>
    </collision>
    <material name="black">
      <color rgba="0.1 0.1 0.1 1"/>
    </material>
  </link>
  <joint name="bendy_joint_M20_SE9" type="revolute">
    <parent link="bendy_input_M20_SE9"/>
    <child link="bendy_output_M20_SE9"/>
    <origin rpy="0 0 0" xyz="-0.049 0 0"/>
    <axis xyz="0 1 0"/>
    <limit effort="100.0" lower="-1.57079632679" upper="1.57079632679" velocity="5"/>
  </joint>
  <link name="static_elbow_M21_SC7">
    <inertial>
      <origin rpy="0 0 0" xyz="-0.03148 0.00004 -0.01437"/>
      <mass value="0.06766"/>
      <inertia ixx="0.000052397" ixy="-0.0000001126" ixz="0.000015681" iyy="0.000065586" iyz="-0.000000082" izz="0.000053626"/>
    </inertial>
    <visual>
      <geometry>
        <mesh filename="package://eigenbot/meshes/Elbow.STL" scale="1 1 1"/>
      </geometry>
      <origin rpy="-1.57079632679 0 0" xyz="0 0 0"/>
    </visual>
    <collision>
      <geometry>
        <mesh filename="package://eigenbot/meshes/Elbow.STL" scale="1 1 1"/>
      </geometry>
      <origin rpy="-1.57079632679 0 0" xyz="0 0 0"/>
    </collision>
    <material name="black">
      <color rgba="0.1 0.1 0.1 1"/>
    </material>
  </link>
  <link name="foot_input_M22_SB6">
    <inertial>
      <origin rpy="0 0 0" xyz="-0.03918 0 0"/>
      <mass value="0.04967"/>
      <inertia ixx="0.0000361" ixy="0" ixz="0" iyy="0.0000434" iyz="0" izz="0.0000434"/>
    </inertial>
    <visual>
      <geometry>
        <mesh filename="package://eigenbot/meshes/Foot.STL" scale=" 1 1 1 "/>
      </geometry>
    </visual>
    <collision>
      <geometry>
        <mesh filename="package://eigenbot/meshes/Foot.STL" scale=" 1 1 1 "/>
      </geometry>
    </collision>
    <material name="black">
      <color rgba="0.1 0.1 0.1 1"/>
    </material>
  </link>
  <link name="bendy_input_M23_S01">
    <inertial>
      <origin rpy="0 0 0" xyz="-0.023 0 0"/>
      <mass value="0.13536"/>
      <inertia ixx="0.000047004" ixy="-0.000000049" ixz="0.000000017" iyy="0.000068413" iyz="0.000000009" izz="0.000070686"/>
    </inertial>
    <visual>
      <geometry>
        <mesh filename="package://eigenbot/meshes/Bendy In.STL" scale="1 1 1"/>
      </geometry>
    </visual>
    <collision>
      <geometry>
        <mesh filename="package://eigenbot/meshes/Bendy In.STL" scale="1 1 1"/>
      </geometry>
    </collision>
    <material name="black">
      <color rgba="0.1 0.1 0.1 1"/>
    </material>
  </link>
  <link name="bendy_output_M23_S01">
    <inertial>
      <origin rpy="0 0 0" xyz="-0.029 0 0"/>
      <mass value=".03522"/>
      <inertia ixx="0.000021977" ixy="0.000000082" ixz="-0.000000063" iyy="0.000017473" iyz="0.000000067" izz="0.000021078"/>
    </inertial>
    <visual>
      <geometry>
        <mesh filename="package://eigenbot/meshes/Bendy Out.STL" scale="1 1 1"/>
      </geometry>
      <origin rpy="0 0 0" xyz="0 0 0 "/>
    </visual>
    <collision>
      <geometry>
        <mesh filename="package://eigenbot/meshes/Bendy Out.STL" scale="1 1 1"/>
      </geometry>
      <origin rpy="0 0 0" xyz="0 0 0"/>
    </collision>
    <material name="black">
      <color rgba="0.1 0.1 0.1 1"/>
    </material>
  </link>
  <joint name="bendy_joint_M23_S01" type="revolute">
    <parent link="bendy_input_M23_S01"/>
    <child link="bendy_output_M23_S01"/>
    <origin rpy="0 0 0" xyz="-0.049 0 0"/>
    <axis xyz="0 1 0"/>
    <limit effort="100.0" lower="-1.57079632679" upper="1.57079632679" velocity="5"/>
  </joint>
  <joint name="connection_0_attachment" type="fixed">
    <origin rpy="4.71238898038 0 0" xyz="-0.036 0 0"/>
    <parent link="bendy_output_M3_S02"/>
    <child link="bendy_input_M5_S1D"/>
  </joint>
  <joint name="connection_1_attachment" type="fixed">
    <origin rpy="4.71238898038 0 1.57079632679" xyz="-0.0455 -0.0375 0"/>
    <parent link="static_elbow_M4_S42"/>
    <child link="bendy_input_M6_S53"/>
  </joint>
  <joint name="connection_2_attachment" type="fixed">
    <origin rpy="1.57079632679 0 0" xyz="-0.036 0 0"/>
    <parent link="bendy_output_M5_S1D"/>
    <child link="static_elbow_M4_S42"/>
  </joint>
  <joint name="connection_3_attachment" type="fixed">
    <origin rpy="3.14159265359 0 0" xyz="-0.036 0 0"/>
    <parent link="bendy_output_M6_S53"/>
    <child link="foot_input_M2_S47"/>
  </joint>
  <joint name="connection_4_attachment" type="fixed">
    <origin rpy="4.71238898038 0 0" xyz="-0.036 0 0"/>
    <parent link="bendy_output_M7_SC0"/>
    <child link="bendy_input_M8_S0C"/>
  </joint>
  <joint name="connection_5_attachment" type="fixed">
    <origin rpy="1.57079632679 0 0" xyz="-0.036 0 0"/>
    <parent link="bendy_output_M8_S0C"/>
    <child link="static_elbow_M9_SBB"/>
  </joint>
  <joint name="connection_6_attachment" type="fixed">
    <origin rpy="1.57079632679 0 1.57079632679" xyz="-0.0455 -0.0375 0"/>
    <parent link="static_elbow_M9_SBB"/>
    <child link="bendy_input_M11_S36"/>
  </joint>
  <joint name="connection_7_attachment" type="fixed">
    <origin rpy="3.14159265359 0 0" xyz="-0.036 0 0"/>
    <parent link="bendy_output_M11_S36"/>
    <child link="foot_input_M10_S29"/>
  </joint>
  <joint name="connection_8_attachment" type="fixed">
    <origin rpy="4.71238898038 0 0" xyz="-0.036 0 0"/>
    <parent link="bendy_output_M13_SB9"/>
    <child link="bendy_input_M15_S03"/>
  </joint>
  <joint name="connection_9_attachment" type="fixed">
    <origin rpy="1.57079632679 0 0" xyz="-0.036 0 0"/>
    <parent link="bendy_output_M15_S03"/>
    <child link="static_elbow_M16_SB4"/>
  </joint>
  <joint name="connection_10_attachment" type="fixed">
    <origin rpy="4.71238898038 0 1.57079632679" xyz="-0.0455 -0.0375 0"/>
    <parent link="static_elbow_M16_SB4"/>
    <child link="bendy_input_M17_S0A"/>
  </joint>
  <joint name="connection_11_attachment" type="fixed">
    <origin rpy="3.14159265359 0 0" xyz="-0.036 0 0"/>
    <parent link="bendy_output_M17_S0A"/>
    <child link="foot_input_M14_SC5"/>
  </joint>
  <joint name="connection_12_attachment" type="fixed">
    <origin rpy="0 0 -1.57079632679" xyz="-0.041 0.067 -0.13"/>
    <parent link="eigenbody_M18_S00"/>
    <child link="bendy_input_M3_S02"/>
  </joint>
  <joint name="connection_13_attachment" type="fixed">
    <origin rpy="0 0 -1.57079632679" xyz="-0.041 0.067 -0.04"/>
    <parent link="eigenbody_M18_S00"/>
    <child link="bendy_input_M19_S5A"/>
  </joint>
  <joint name="connection_14_attachment" type="fixed">
    <origin rpy="0.785398163397 0 -1.57079632679" xyz="-0.041 0.067 0.05"/>
    <parent link="eigenbody_M18_S00"/>
    <child link="wheel_input_M0_SF1"/>
  </joint>
  <joint name="connection_15_attachment" type="fixed">
    <origin rpy="8.63937979737 0 1.57079632679" xyz="-0.041 -0.067 0.05"/>
    <parent link="eigenbody_M18_S00"/>
    <child link="wheel_input_M1_SF3"/>
  </joint>
  <joint name="connection_16_attachment" type="fixed">
    <origin rpy="3.14159265359 0 1.57079632679" xyz="-0.041 -0.067 -0.04"/>
    <parent link="eigenbody_M18_S00"/>
    <child link="bendy_input_M13_SB9"/>
  </joint>
  <joint name="connection_17_attachment" type="fixed">
    <origin rpy="3.14159265359 0 1.57079632679" xyz="-0.041 -0.067 -0.13"/>
    <parent link="eigenbody_M18_S00"/>
    <child link="bendy_input_M7_SC0"/>
  </joint>
  <joint name="connection_18_attachment" type="fixed">
    <origin rpy="0 0 3.14159265359" xyz="-0.009 0 -0.08"/>
    <parent link="eigenbody_M18_S00"/>
    <child link="gripper_M12_S14"/>
  </joint>
  <joint name="connection_19_attachment" type="fixed">
    <origin rpy="4.71238898038 0 0" xyz="-0.036 0 0"/>
    <parent link="bendy_output_M19_S5A"/>
    <child link="bendy_input_M20_SE9"/>
  </joint>
  <joint name="connection_20_attachment" type="fixed">
    <origin rpy="1.57079632679 0 0" xyz="-0.036 0 0"/>
    <parent link="bendy_output_M20_SE9"/>
    <child link="static_elbow_M21_SC7"/>
  </joint>
  <joint name="connection_21_attachment" type="fixed">
    <origin rpy="4.71238898038 0 1.57079632679" xyz="-0.0455 -0.0375 0"/>
    <parent link="static_elbow_M21_SC7"/>
    <child link="bendy_input_M23_S01"/>
  </joint>
  <joint name="connection_22_attachment" type="fixed">
    <origin rpy="3.14159265359 0 0" xyz="-0.036 0 0"/>
    <parent link="bendy_output_M23_S01"/>
    <child link="foot_input_M22_SB6"/>
  </joint>
</robot>
